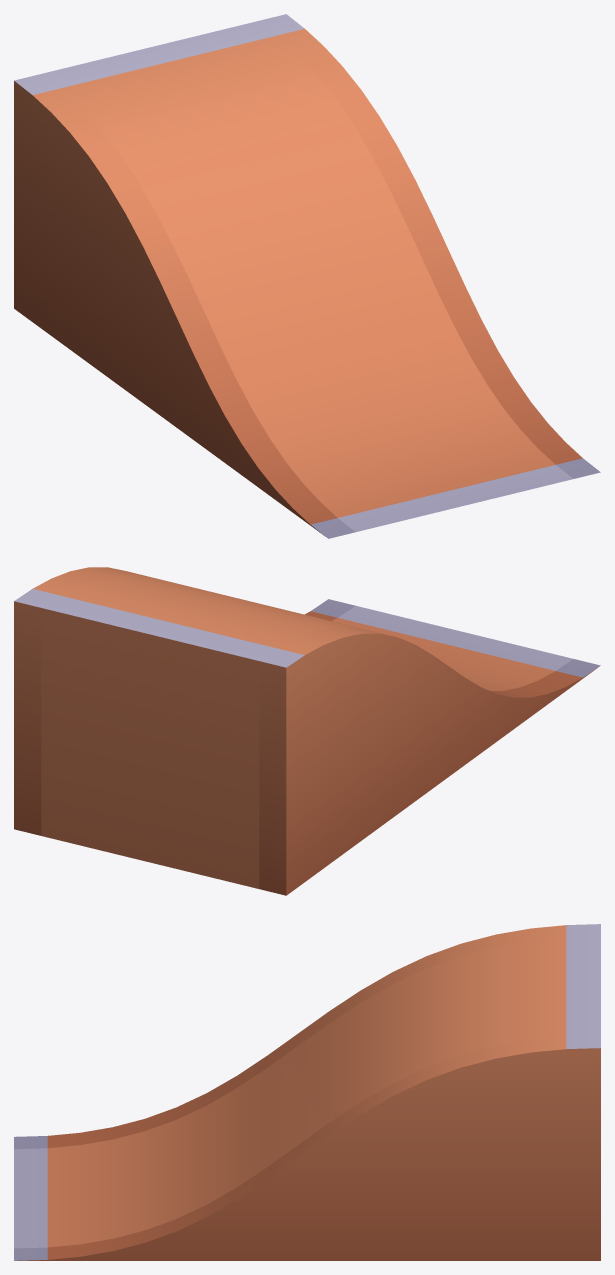
File: slope-smooth.fbx
3 renders of one model, top to bottom at view 1: azimuth 30°, elevation 25°; view 2: azimuth 150°, elevation 25°; view 3: azimuth 270°, elevation 25°, orthographic. The views are drawn at different scales.
Visible parts, largest first — view 1: slope-smooth; view 2: slope-smooth; view 3: slope-smooth.
Boxes of the visible parts, x1=… form: slope-smooth: x1=14, y1=14, x2=600, y2=538; slope-smooth: x1=14, y1=567, x2=600, y2=895; slope-smooth: x1=14, y1=924, x2=600, y2=1260.
Size of the model in its own units: 100 by 80 by 200.
Materials: 1 (1 with a texture image).
